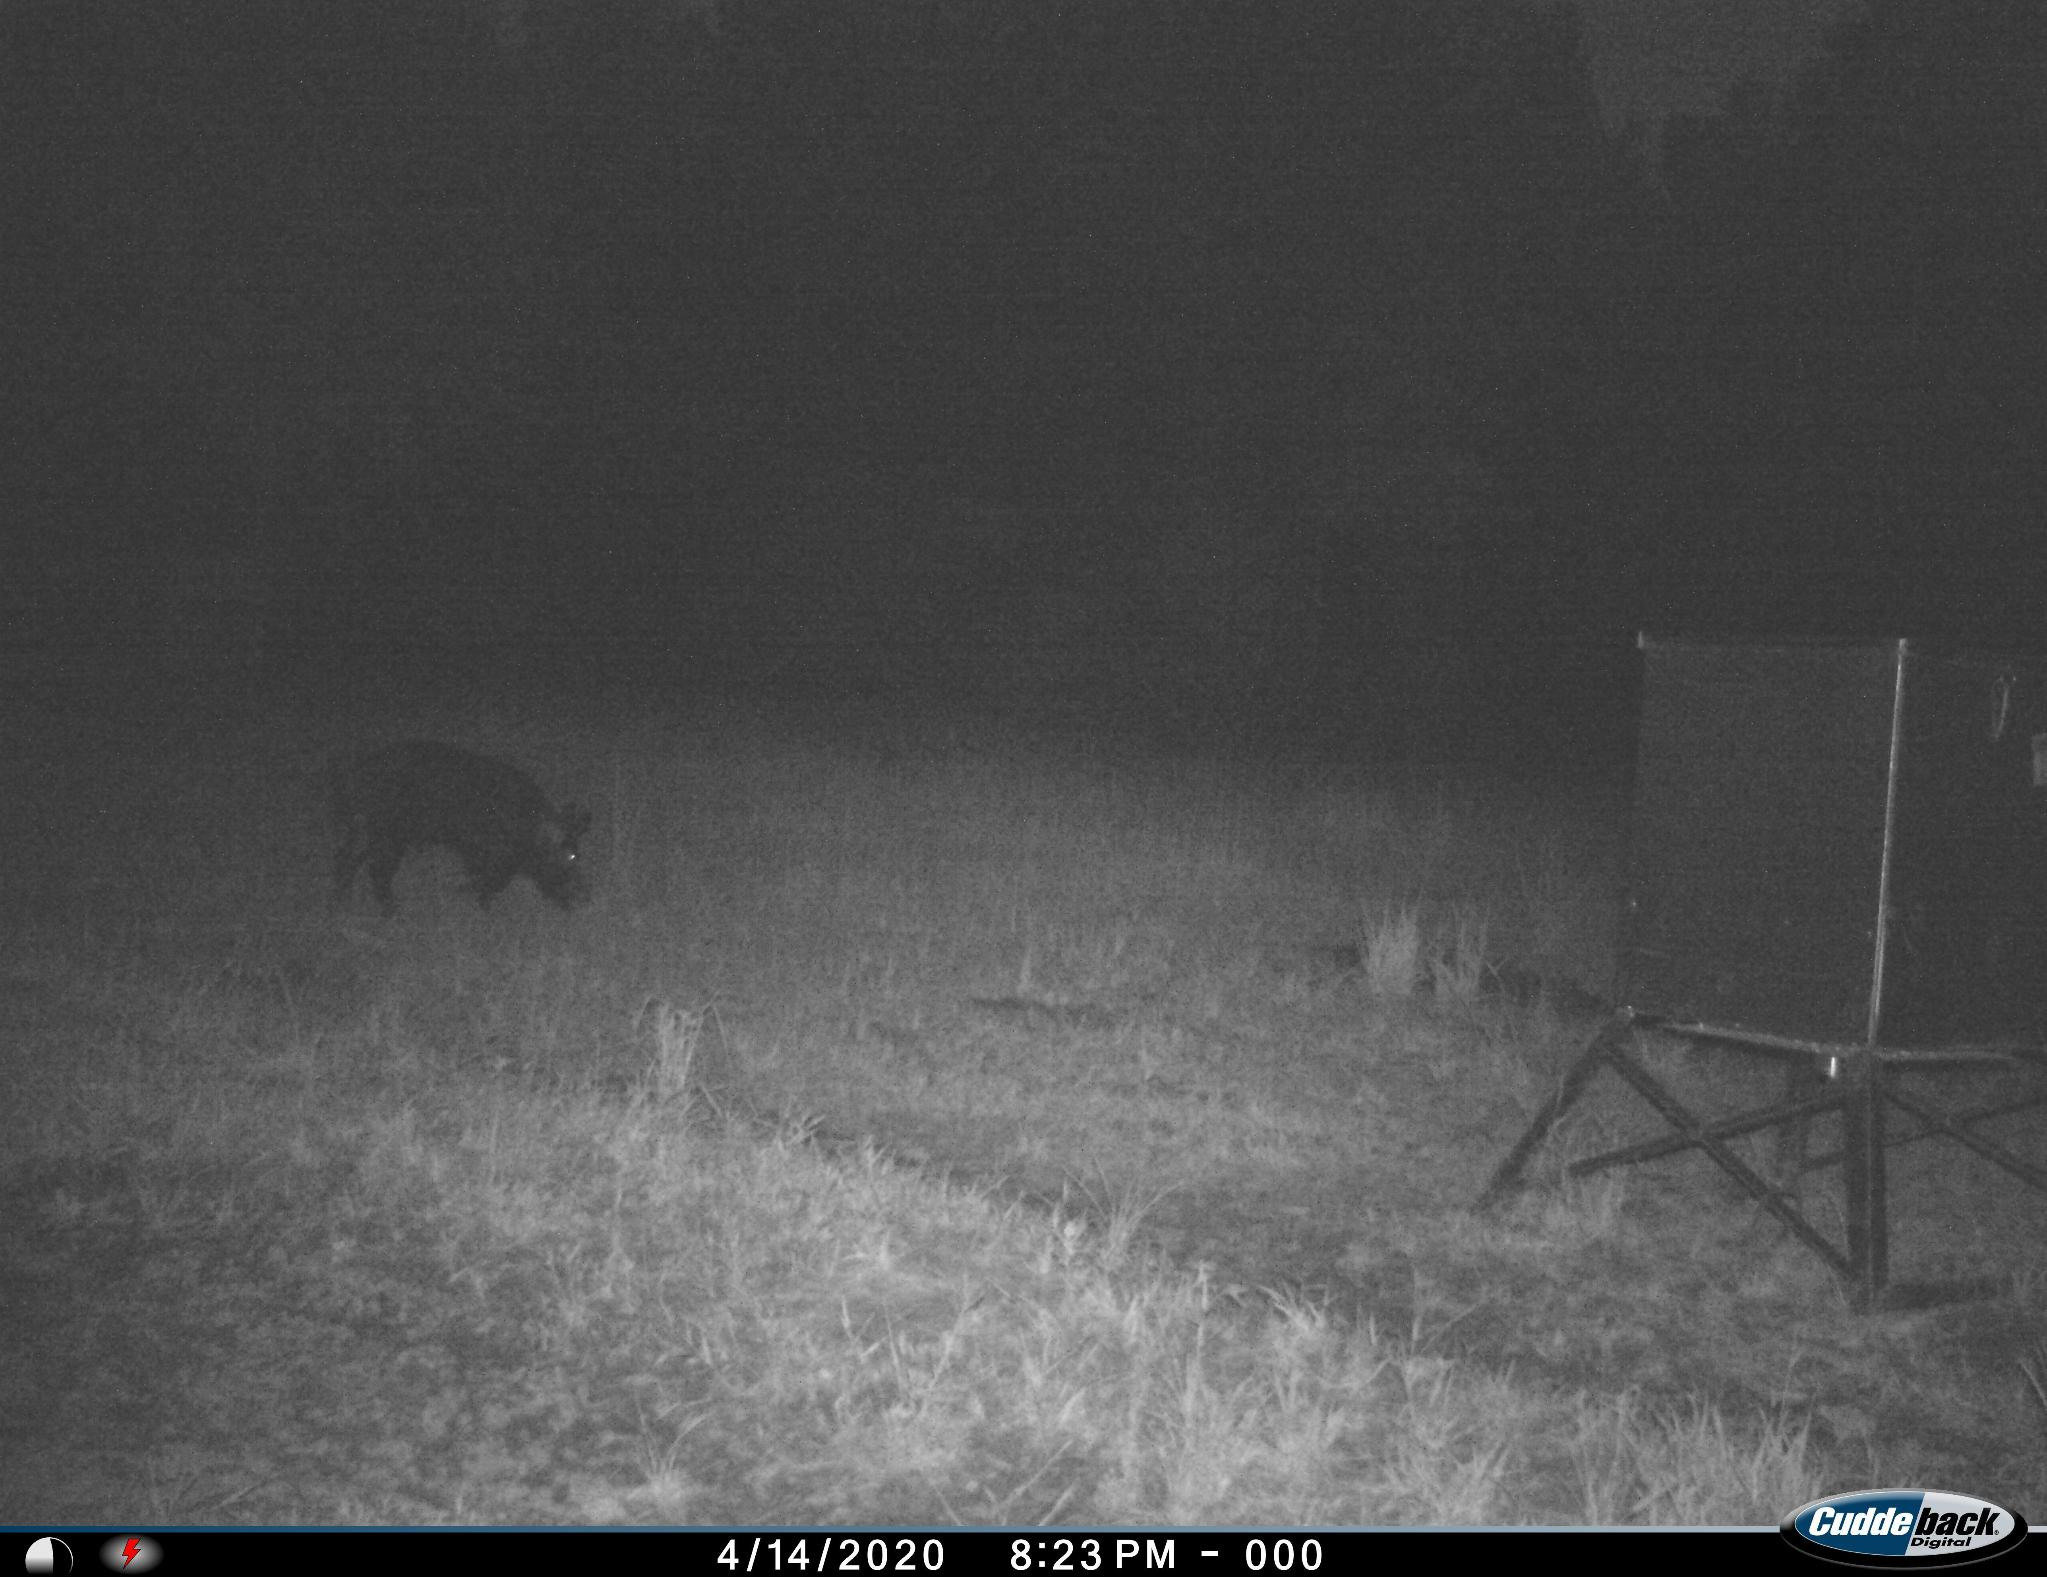Hog: (313, 729, 603, 944)
